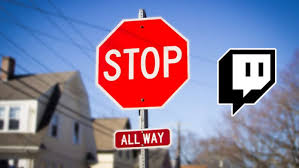SS: (94, 17, 189, 108)
